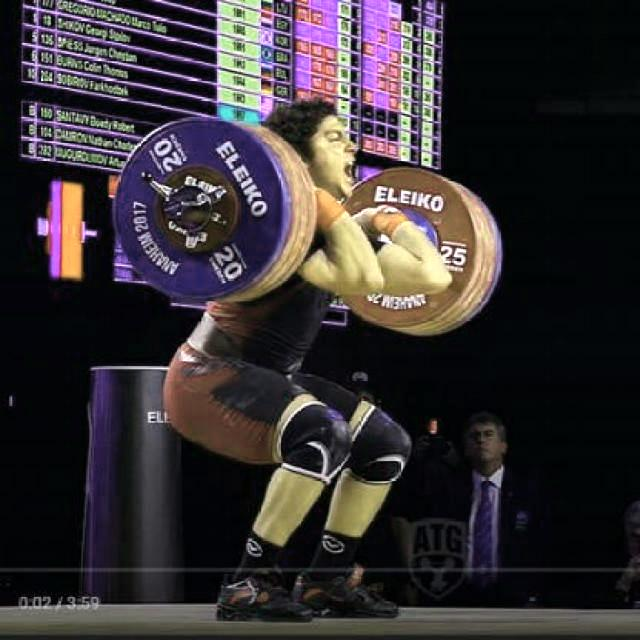barbell: (106, 108, 302, 312)
